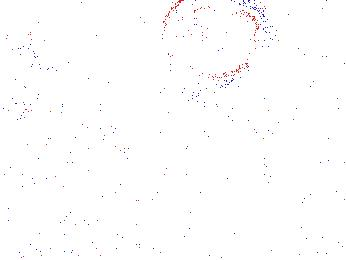moon jellyfish: (161, 1, 263, 89), (32, 1, 115, 72)
